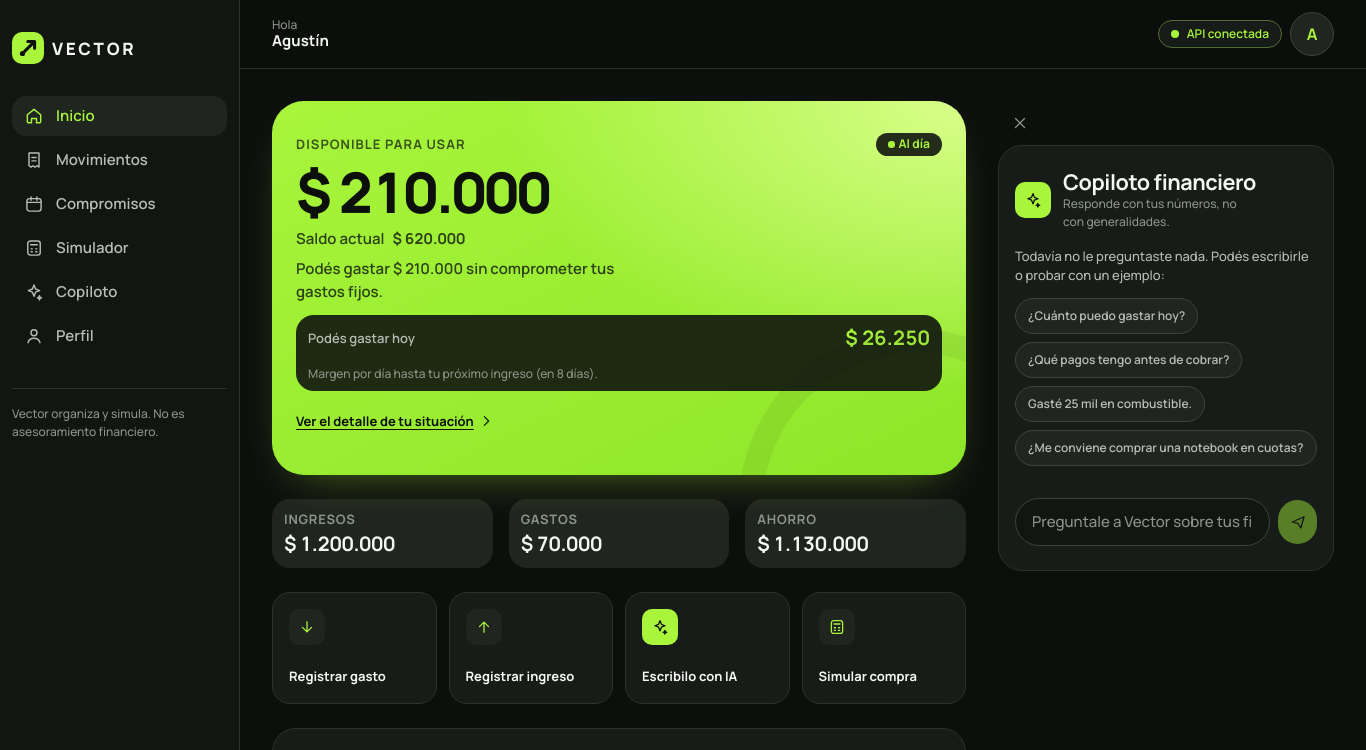
Test: Acciones rápidas › "Registrar ingreso" abre el mismo formulario con el tipo ingreso
This screenshot has width=1366, height=750.
Click the button "Registrar ingreso" at (531,648), box [448,592,613,704]
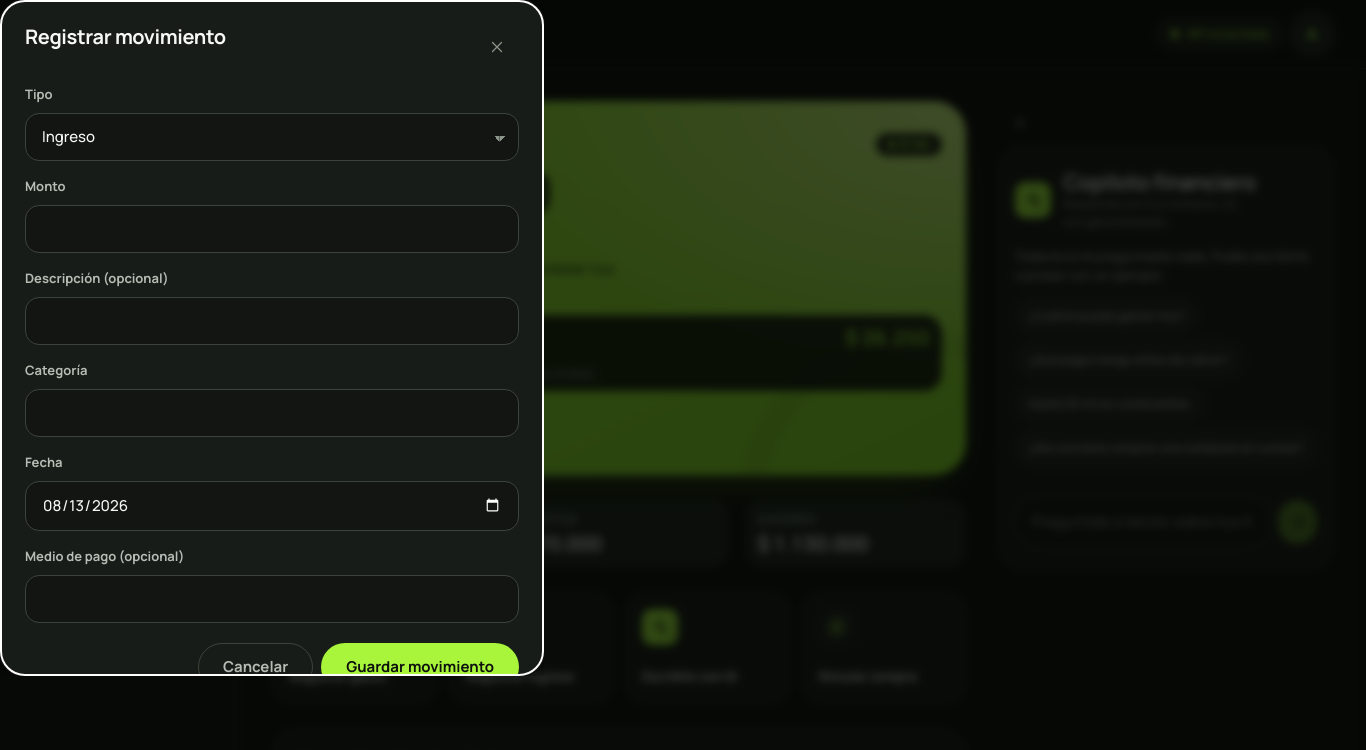
expect the dropdown labelled "Tipo" shows "Ingreso": met, box [25,112,519,161]
expect the field labelled "Categoría" is shown: met, box [25,388,519,437]
